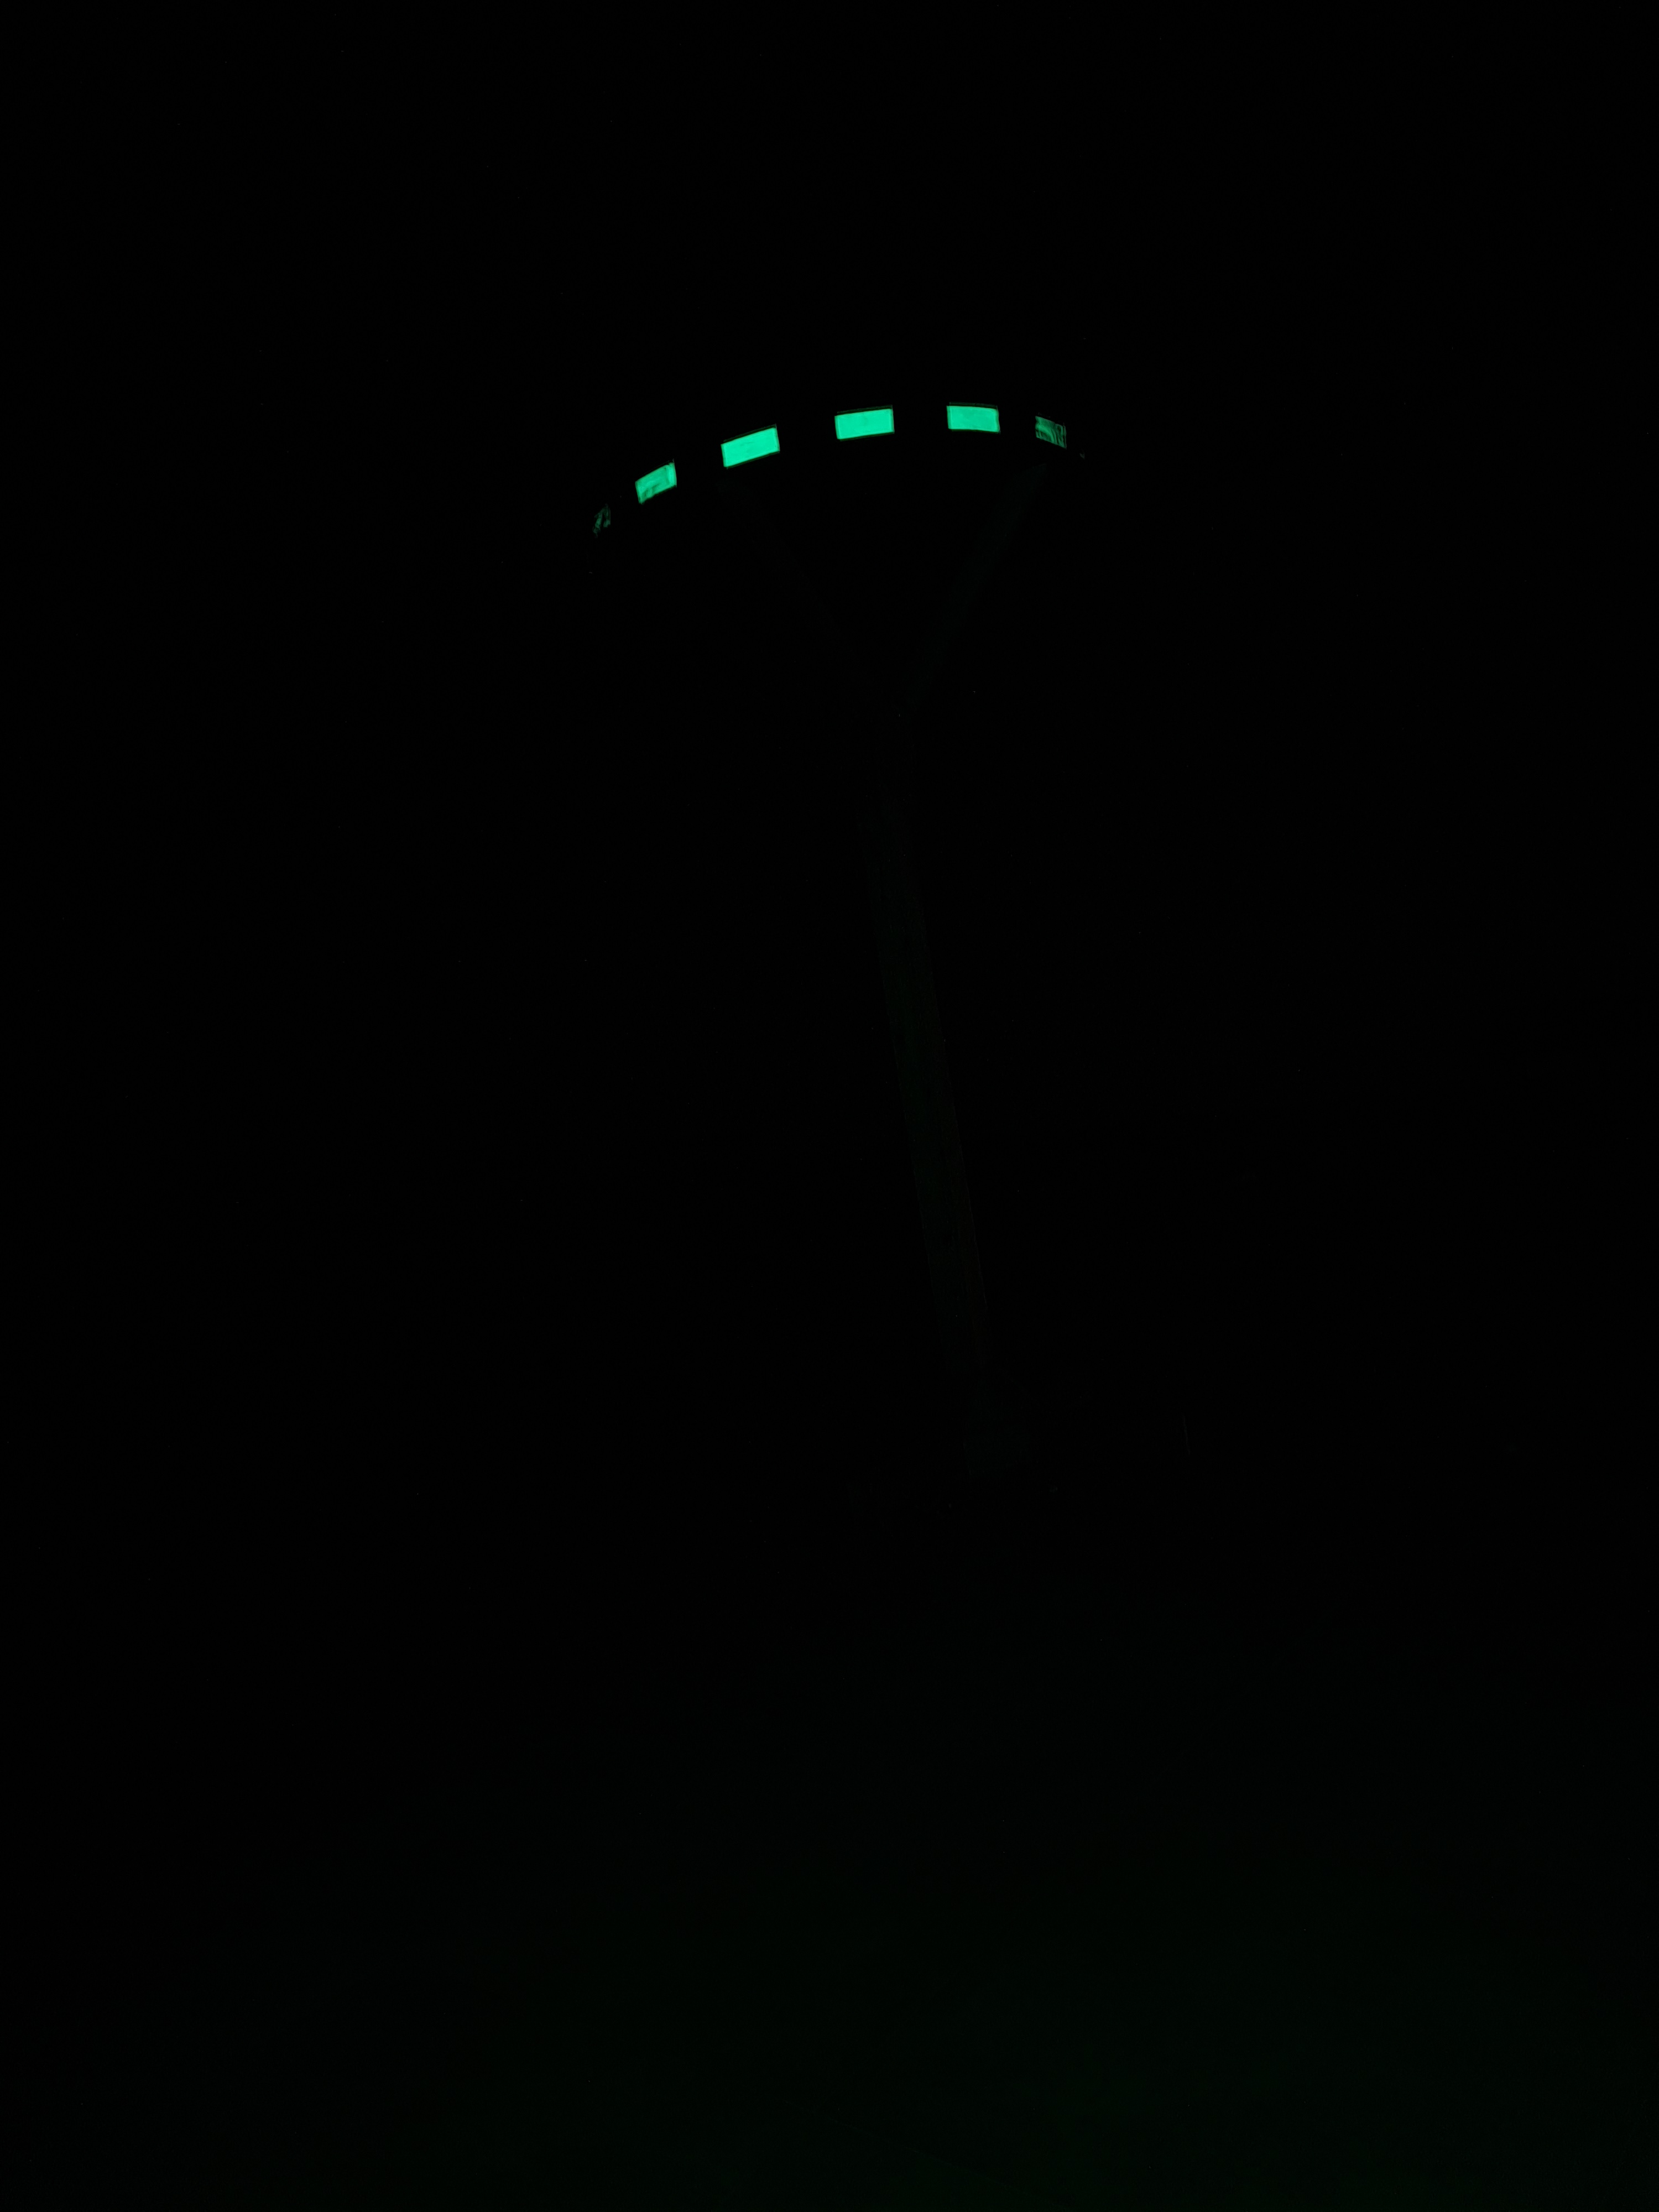hoop: (586, 404, 1073, 543)
